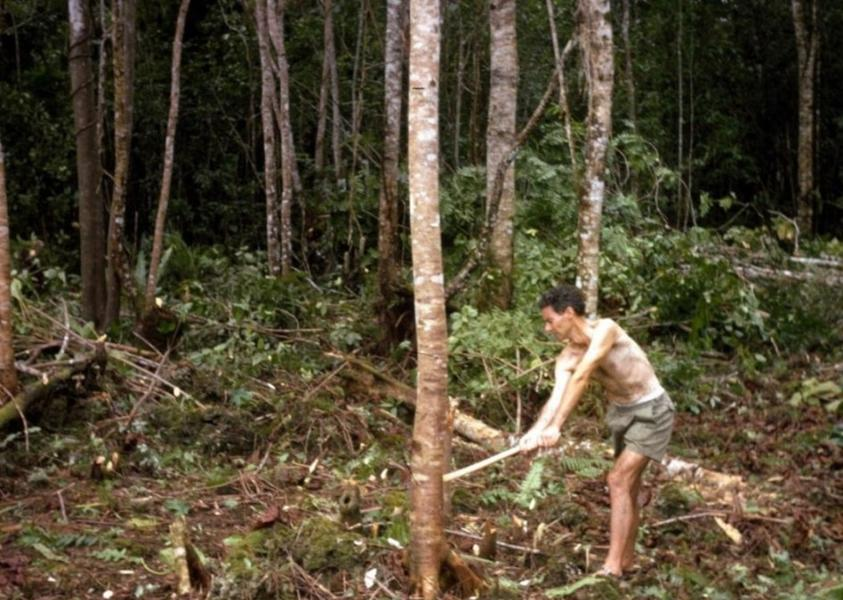person: (516, 286, 678, 584)
